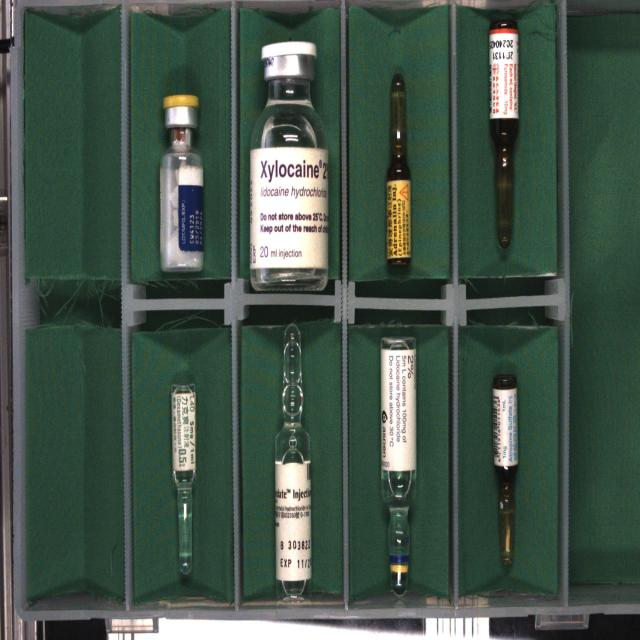Vials: (250, 41, 329, 291), (160, 94, 204, 273)
